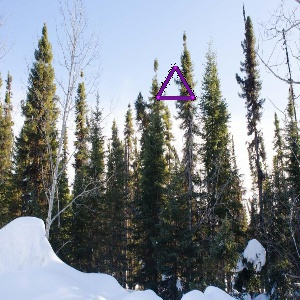triangle: (149, 59, 201, 107)
